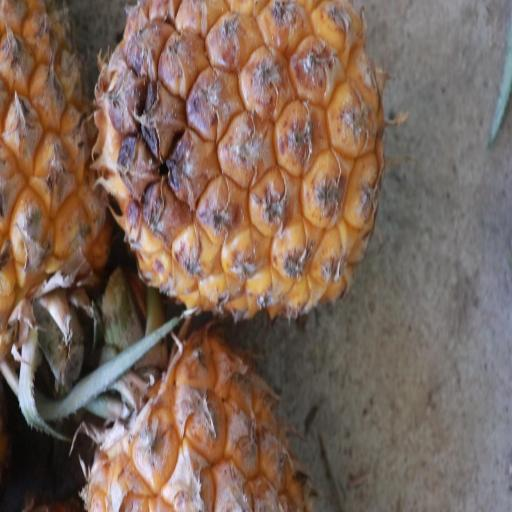Pineapple - v8 v1: (86, 0, 393, 322)
